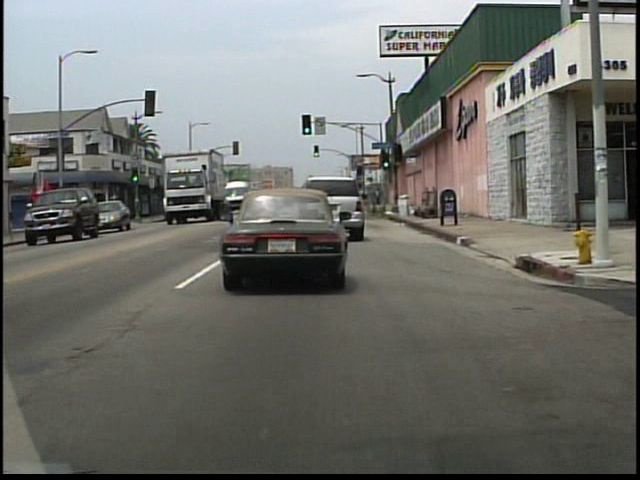person: (67, 202, 79, 229), (374, 187, 383, 206)
